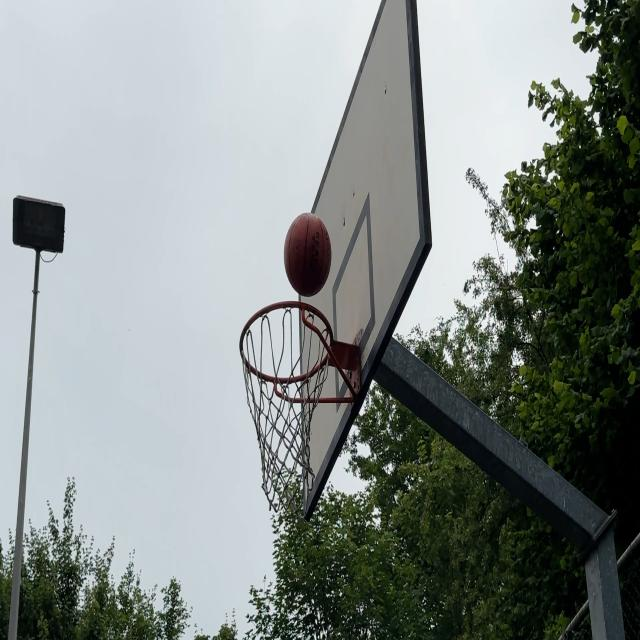Basketball: (285, 212, 331, 297)
